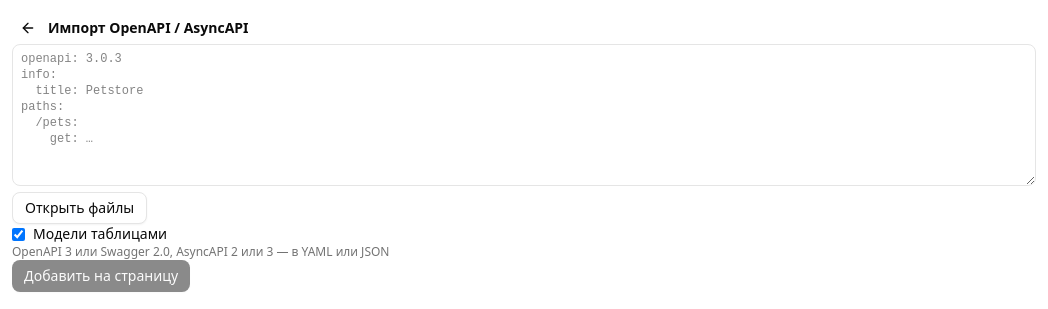
ApiSpecImport › leaves the models out without «Модели таблицами»
Click the text box named "OpenAPI или AsyncAPI": point(524, 115) [12,44,1036,186]
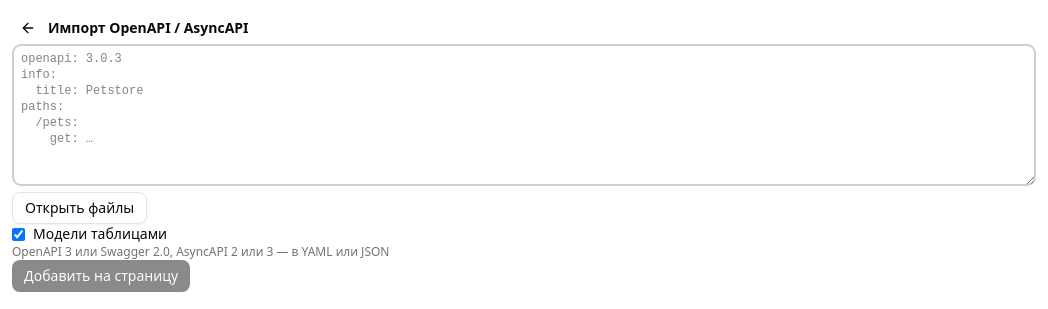
Type keys "openapi: 3.0.0 info:   version: 1.0.0   title: Petstore   license:     name: MIT servers:   - url: http://petstore.swagger.io/v1 paths:   /pets:     get:       summary: List all pets       operationId"
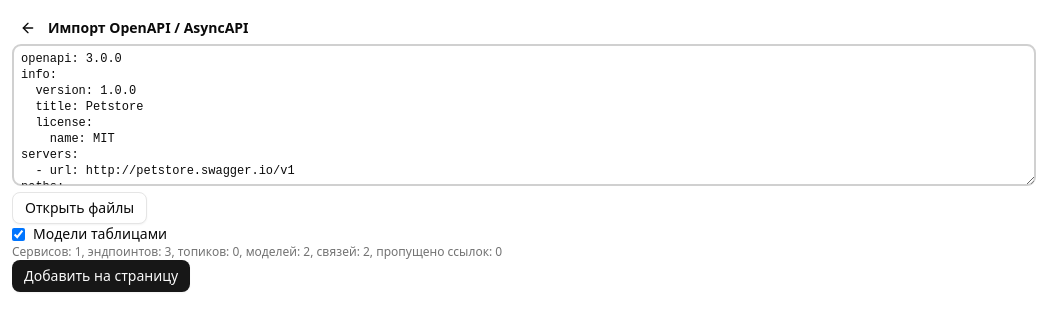
Expected: the message shows "моделей: 2", [12,243,502,260]
Click the checkbox labelled "Модели таблицами": point(18, 234) [12,228,25,240]
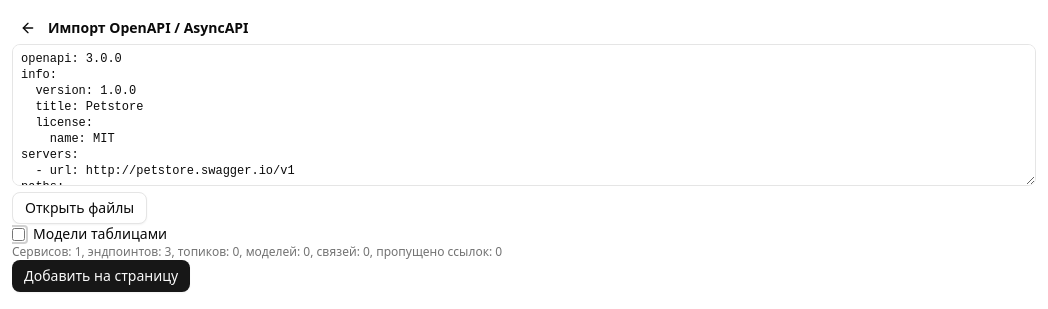
Expected: the message shows "Сервисов: 1, эндпоинтов: 3, топиков: 0, моделей: 0, связей: 0, пропущено ссылок: 0", [12,243,502,260]
